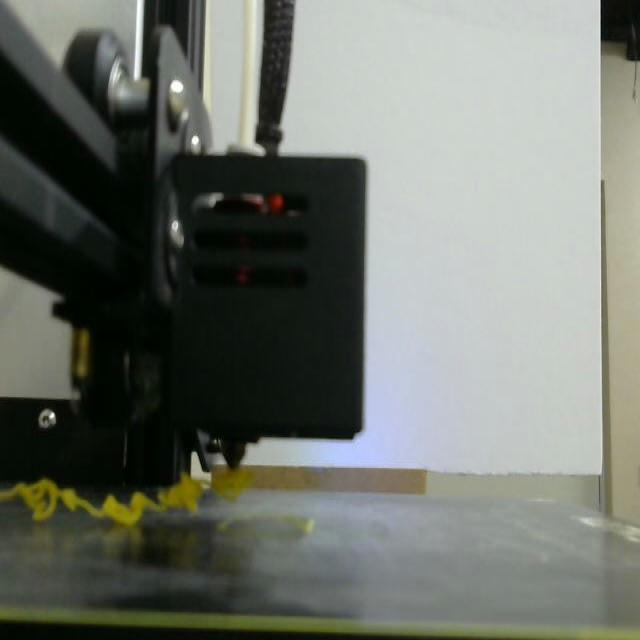spaghetti: (0, 473, 205, 526), (211, 468, 252, 501)
